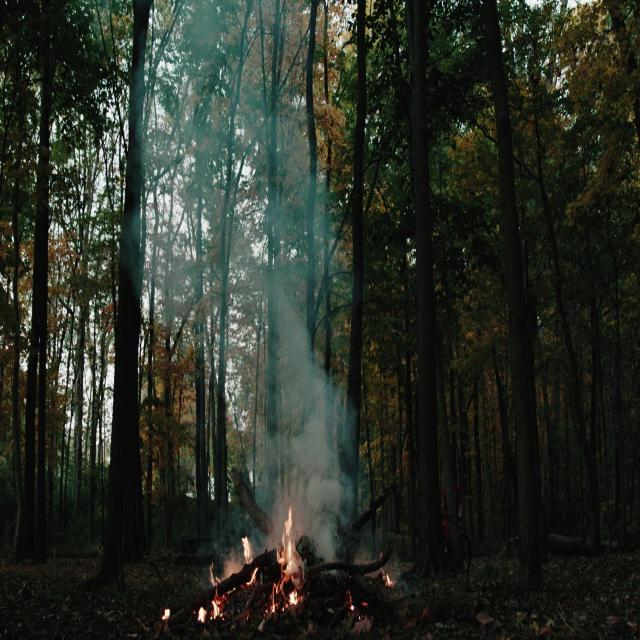Fire: (266, 494, 308, 624), (195, 554, 232, 628)
Smoke: (127, 5, 359, 548)
